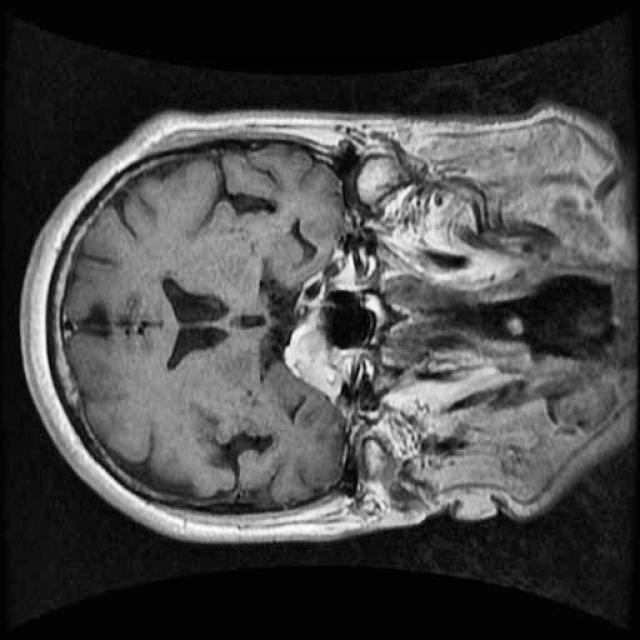Tumor: (266, 306, 354, 415)
